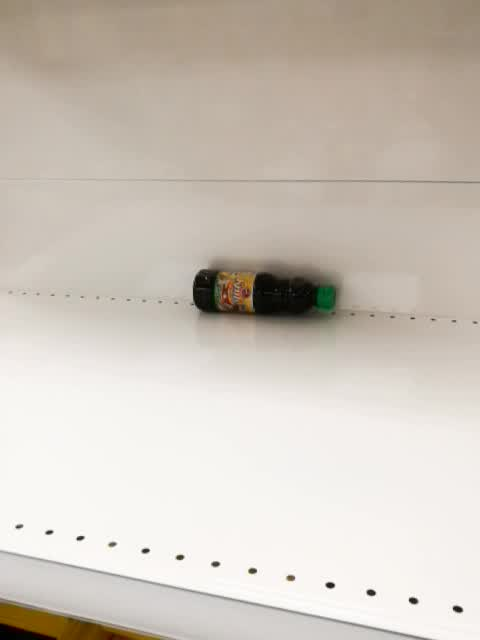cookingoil: (191, 266, 343, 317)
